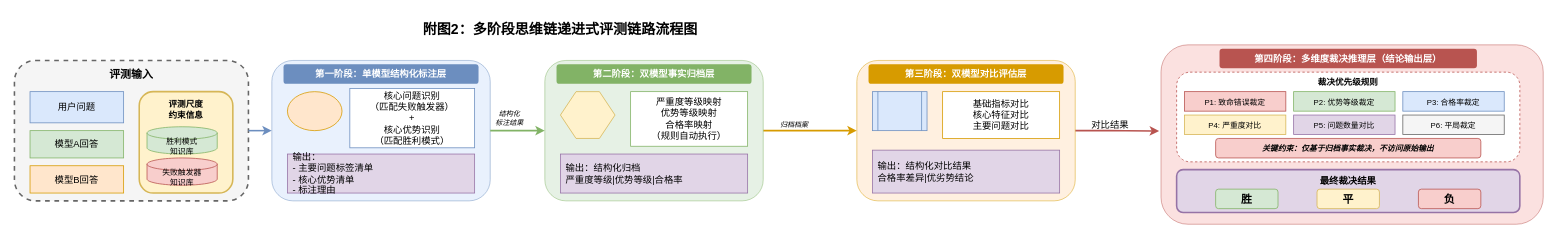
Some shapes in this 1557 by 238 pixel diagram are drawn without their labels. Each missing label, with the centre of its shape:
"大语言 模型" goes at (x=314, y=111).
"对比 分析" goes at (x=899, y=111).
"规则 映射 引擎" goes at (x=587, y=114).
